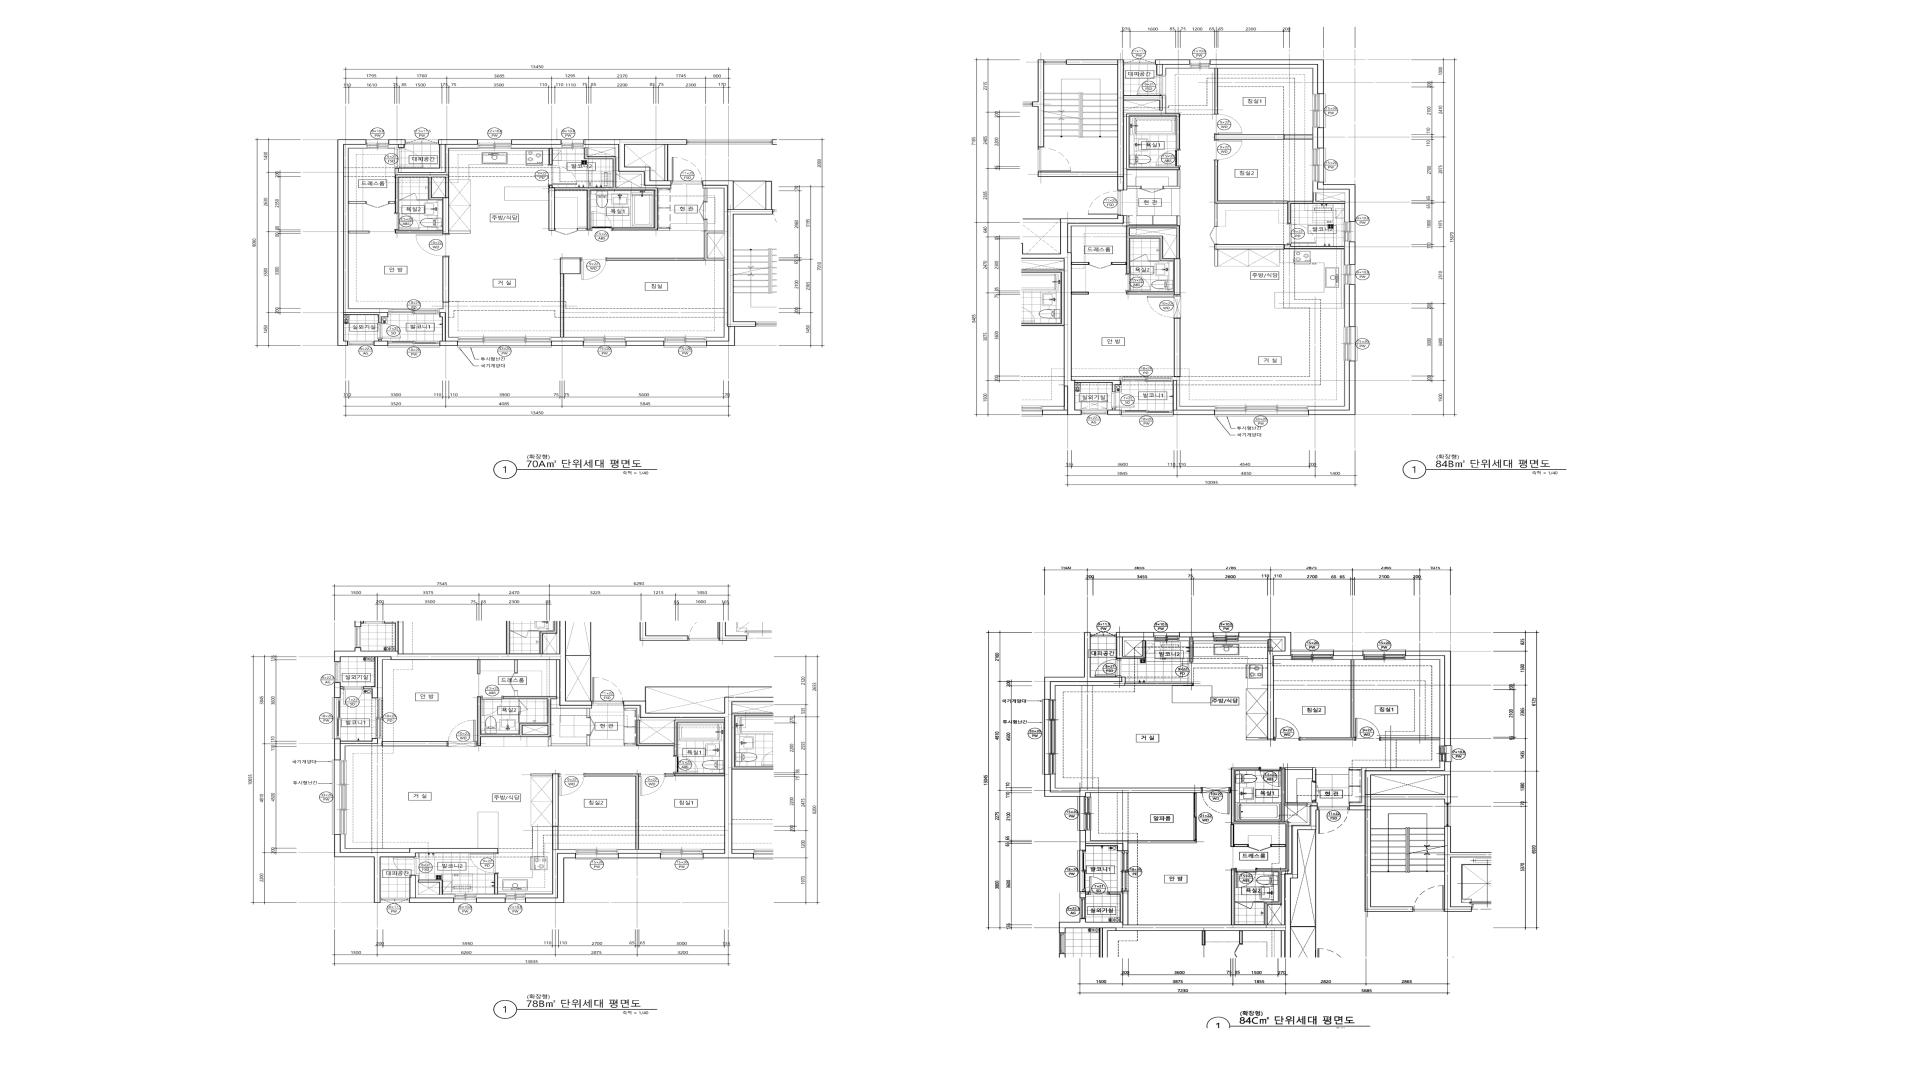door: (1317, 806, 1349, 833), (1201, 787, 1232, 815), (671, 157, 703, 183), (1088, 190, 1121, 215), (447, 720, 477, 746), (1414, 886, 1444, 913), (592, 678, 624, 703), (1038, 148, 1071, 171), (415, 233, 448, 257), (1147, 295, 1180, 319), (549, 165, 578, 186), (469, 853, 498, 874), (1354, 717, 1381, 740), (1274, 717, 1300, 740), (1288, 223, 1316, 244), (1215, 140, 1242, 161), (1215, 113, 1242, 135), (1137, 75, 1166, 95), (394, 148, 423, 167), (580, 258, 607, 280), (558, 774, 584, 795), (638, 774, 665, 795), (393, 857, 419, 876), (1095, 659, 1121, 676), (591, 211, 613, 231), (1259, 767, 1282, 787), (480, 696, 502, 716), (1156, 149, 1180, 167), (674, 756, 698, 774), (1126, 274, 1151, 291), (1234, 869, 1257, 887), (1088, 877, 1109, 895), (378, 323, 401, 339), (1112, 392, 1134, 407), (343, 687, 363, 704), (1193, 793, 1197, 840), (1312, 781, 1320, 803), (509, 673, 518, 691), (365, 202, 389, 208), (1141, 186, 1163, 193), (555, 228, 578, 235), (1249, 844, 1271, 851), (1089, 262, 1112, 269), (699, 202, 707, 220), (1234, 902, 1253, 910), (587, 717, 595, 736), (1209, 227, 1217, 244), (400, 193, 417, 200), (1091, 632, 1116, 637), (1130, 255, 1149, 261), (518, 699, 527, 712)
wall: (1059, 806, 1317, 957), (334, 621, 592, 705), (607, 186, 728, 342), (624, 698, 732, 858), (1038, 59, 1163, 190), (1349, 762, 1451, 913), (1232, 767, 1317, 924), (1060, 215, 1124, 415), (703, 181, 773, 345), (334, 835, 498, 903), (338, 140, 388, 345), (555, 145, 671, 231), (1215, 161, 1345, 223), (1238, 632, 1291, 740), (1044, 632, 1125, 699), (1112, 225, 1180, 295), (584, 140, 687, 186), (1300, 659, 1354, 740), (1406, 651, 1451, 746), (584, 774, 640, 849), (1444, 825, 1491, 913), (1124, 95, 1166, 190), (477, 696, 556, 746), (1209, 59, 1324, 94), (1044, 774, 1201, 796), (1211, 65, 1317, 94), (1126, 113, 1180, 170), (394, 140, 477, 175), (525, 853, 576, 903), (1308, 361, 1356, 415), (525, 849, 576, 898), (1291, 829, 1316, 927), (551, 659, 592, 717), (389, 175, 448, 214), (1068, 215, 1127, 253), (551, 274, 583, 342), (1308, 361, 1349, 410), (1317, 182, 1356, 222), (1172, 380, 1215, 415), (1312, 182, 1349, 222), (624, 705, 724, 720), (1371, 775, 1444, 795), (1172, 377, 1215, 410), (409, 876, 454, 903), (340, 835, 409, 852), (566, 655, 591, 700), (1033, 59, 1044, 148), (1116, 632, 1154, 658), (334, 738, 378, 761), (512, 145, 562, 165), (1080, 831, 1129, 851), (340, 738, 382, 761), (415, 876, 454, 898), (439, 302, 458, 342), (1215, 244, 1345, 249), (1122, 637, 1154, 657), (439, 313, 458, 345), (1155, 59, 1191, 75), (377, 657, 390, 698), (1215, 135, 1312, 140), (707, 233, 725, 258), (1109, 891, 1124, 922), (549, 736, 589, 746), (1232, 824, 1249, 848), (553, 774, 558, 849), (1174, 318, 1180, 377), (418, 880, 443, 894), (381, 741, 447, 746), (560, 257, 580, 274), (1179, 632, 1213, 641), (1163, 170, 1180, 189), (549, 186, 555, 231), (1163, 65, 1191, 75), (1349, 285, 1356, 327), (587, 148, 616, 157), (1129, 840, 1196, 844), (512, 140, 562, 145), (1333, 651, 1364, 659), (443, 257, 448, 302), (1269, 637, 1284, 651), (618, 853, 661, 858), (1344, 285, 1349, 327), (394, 229, 443, 233), (443, 198, 448, 233), (1125, 683, 1193, 686), (1215, 69, 1218, 113), (618, 849, 661, 853), (1381, 737, 1440, 740), (1349, 241, 1356, 265), (476, 898, 505, 903), (1232, 869, 1234, 924), (626, 338, 663, 342), (626, 342, 663, 345), (1317, 128, 1324, 149), (334, 683, 343, 698), (1072, 377, 1121, 380), (389, 140, 405, 148), (551, 342, 583, 345), (1344, 241, 1349, 265), (476, 894, 505, 898), (1312, 128, 1317, 149), (1108, 407, 1121, 415), (1189, 637, 1193, 662), (373, 339, 388, 345), (665, 145, 667, 181), (703, 849, 724, 853), (1215, 249, 1218, 266), (1215, 203, 1217, 227), (448, 231, 471, 233), (530, 774, 553, 777), (1246, 737, 1267, 740), (348, 231, 369, 233), (514, 659, 518, 673), (495, 874, 497, 894), (348, 202, 365, 204), (733, 181, 766, 182), (1080, 891, 1087, 898), (477, 659, 480, 674), (389, 145, 398, 149), (624, 744, 637, 746), (1349, 767, 1361, 770), (1178, 216, 1180, 225), (415, 853, 419, 857), (1253, 902, 1265, 903), (417, 199, 427, 200), (518, 712, 520, 723), (514, 691, 517, 696), (1087, 891, 1088, 894), (1149, 261, 1159, 261)
window: (1042, 699, 1056, 774), (332, 761, 347, 835), (1215, 406, 1308, 417), (458, 338, 551, 348), (1291, 649, 1335, 659), (583, 338, 626, 348), (663, 338, 707, 348), (1077, 796, 1091, 831), (1312, 94, 1325, 128), (1344, 327, 1357, 361), (1364, 649, 1406, 659), (576, 849, 618, 860), (661, 849, 703, 860), (1312, 149, 1325, 182), (1077, 851, 1087, 891), (1121, 410, 1174, 417), (388, 342, 440, 348), (1121, 851, 1129, 891), (332, 698, 340, 738), (477, 140, 512, 149), (388, 309, 439, 314), (1121, 377, 1172, 382), (376, 698, 382, 738), (1344, 222, 1356, 241), (1344, 265, 1356, 285), (1154, 632, 1179, 641), (1213, 632, 1238, 641), (405, 138, 438, 145), (1124, 58, 1155, 65), (367, 140, 389, 149), (454, 894, 476, 903), (562, 140, 584, 149), (380, 898, 409, 905), (1440, 746, 1452, 762), (505, 894, 525, 903), (1191, 59, 1211, 69), (1444, 803, 1451, 827), (1081, 410, 1108, 415), (334, 662, 340, 683), (1080, 898, 1087, 919), (1044, 59, 1067, 65), (348, 342, 373, 345)
